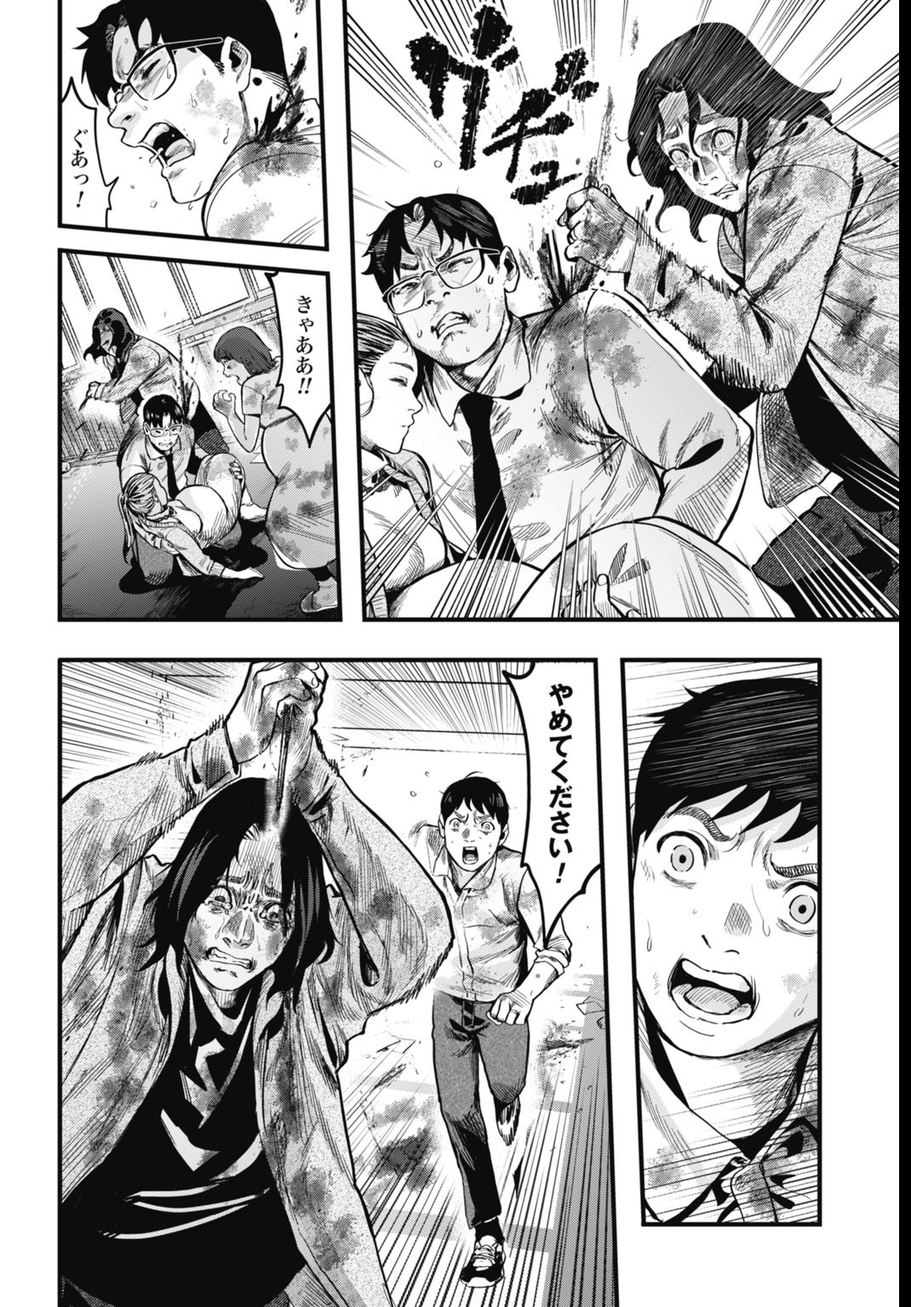bubbles: (496, 659, 604, 954), (259, 265, 338, 451), (59, 71, 124, 229)
